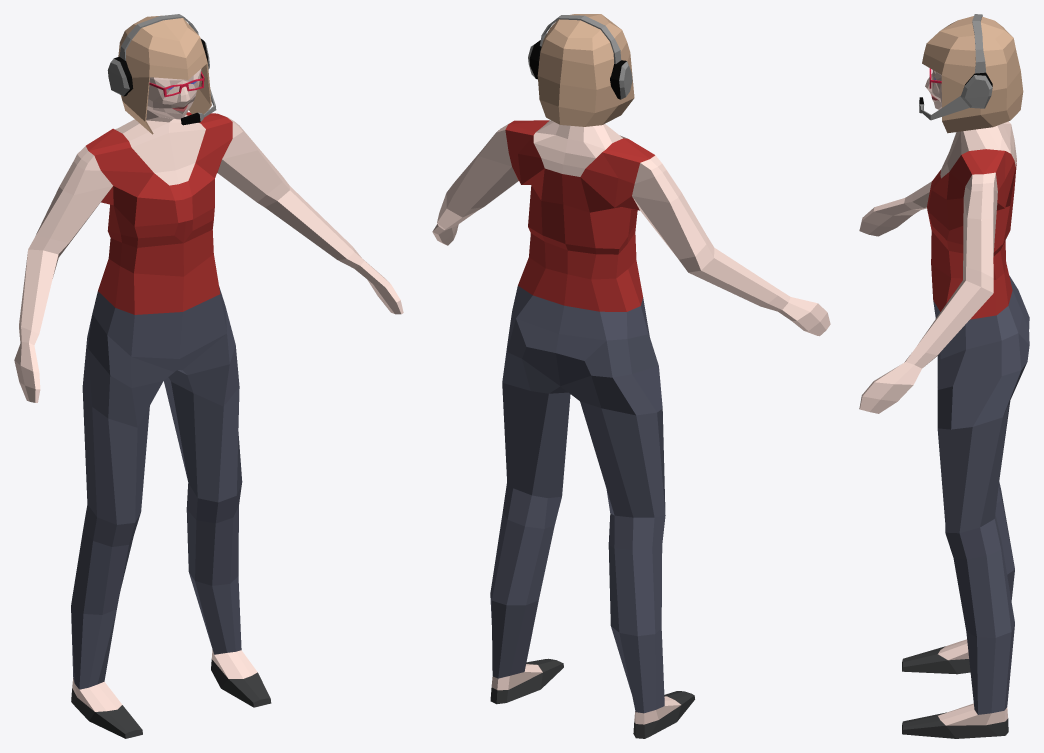
File: scene_trLiZdWSwQ.glb
3 views of the same model, side by side, from view 1: azimuth 30°, elevation 25°; view 2: azimuth 150°, elevation 25°; view 3: azimuth 270°, elevation 25° (orthographic). The views are drawn at different scales.
Visible parts, largest first — view 1: Body, Hair, Headset; view 2: Body, Hair, Headset; view 3: Body, Hair, Headset.
Part boxes in pixels (x1,y1,x2,y2): Body: (14, 68, 403, 738); Hair: (118, 15, 211, 134); Headset: (107, 14, 216, 125); Body: (432, 120, 830, 738); Hair: (537, 14, 634, 126); Headset: (528, 15, 632, 99); Body: (859, 70, 1029, 738); Hair: (922, 16, 1023, 133); Headset: (919, 14, 992, 120).
Size of the model in its own units: 2.87 by 5.01 by 1.14.
